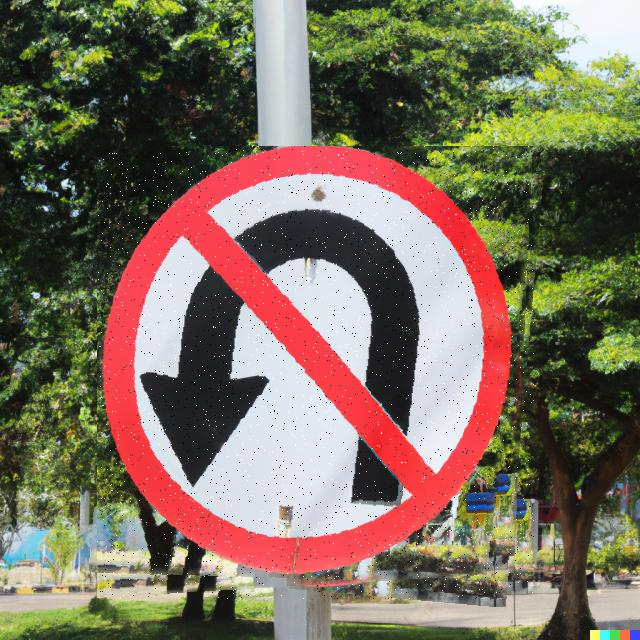no u turn: (97, 146, 534, 599)
